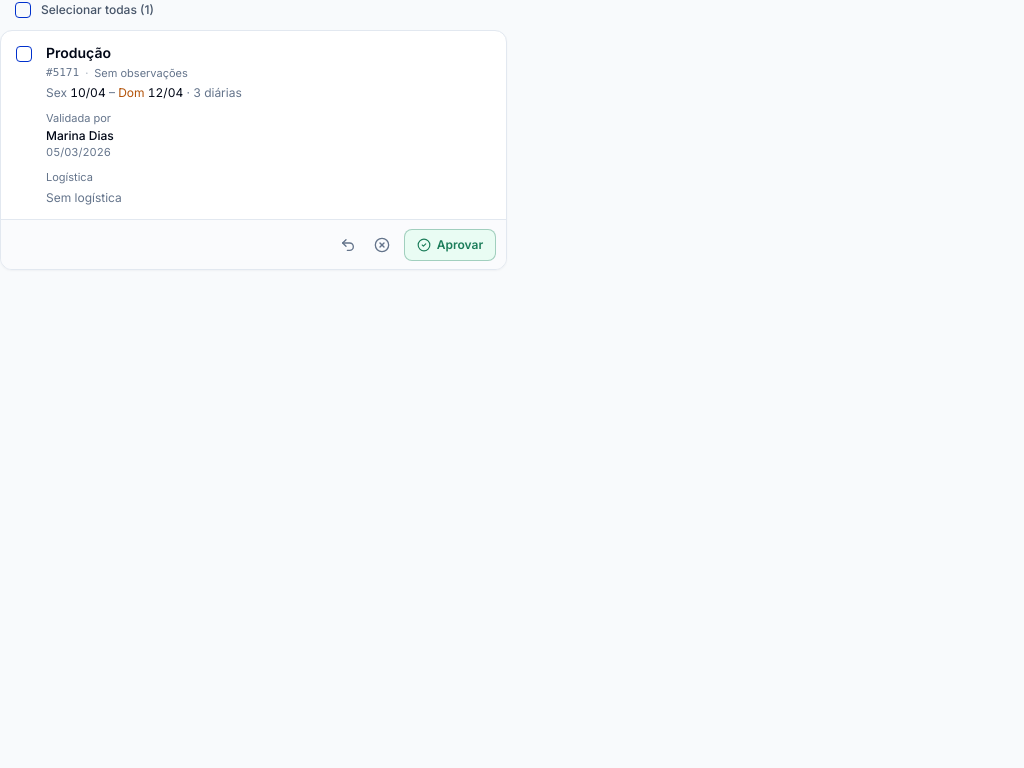
it: Aprovação → detalhe da vaga no estilo da Validação › vaga que voltou do aprovador: selo e o cartão com a história, autor e data
Click the cell that starts with "Produção".
click(78, 52)  # box x1=32 y1=31 x2=506 y2=101
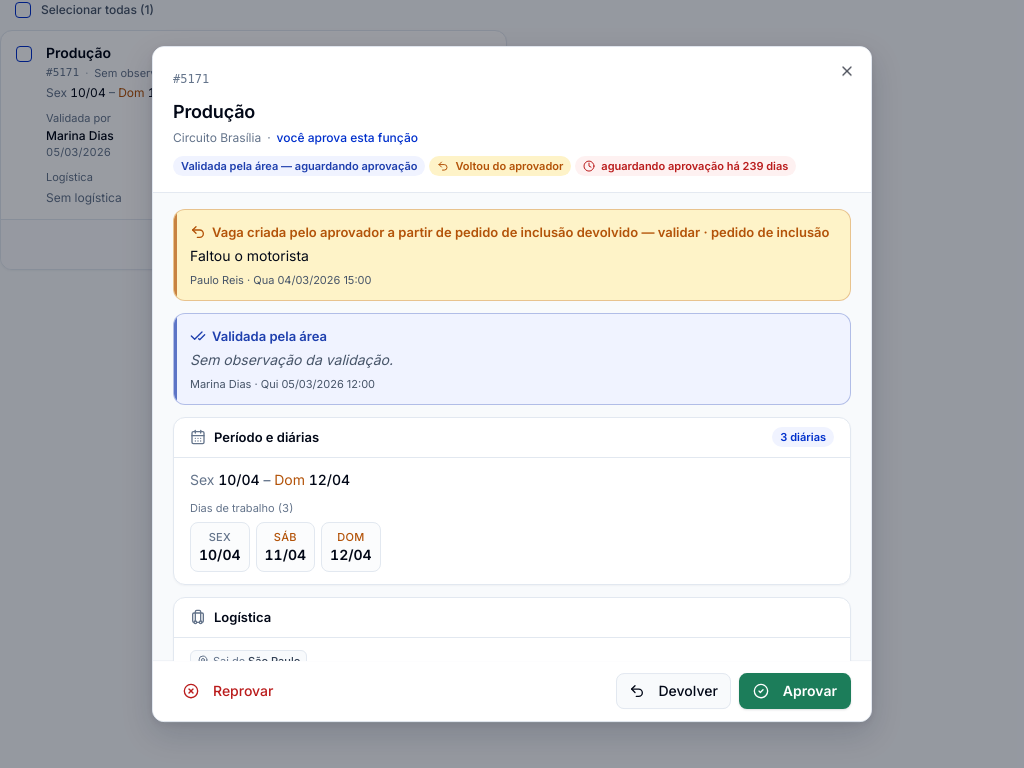
Expected: the dialog with test id "detalhe-da-vaga" shows "Voltou do aprovador", x1=456 y1=159 x2=563 y2=173
Expected: the element "pedido de inclusão" shows "Faltou o motorista", x1=190 y1=247 x2=309 y2=264
Expected: the element "pedido de inclusão" shows "Paulo Reis", x1=190 y1=273 x2=244 y2=287
